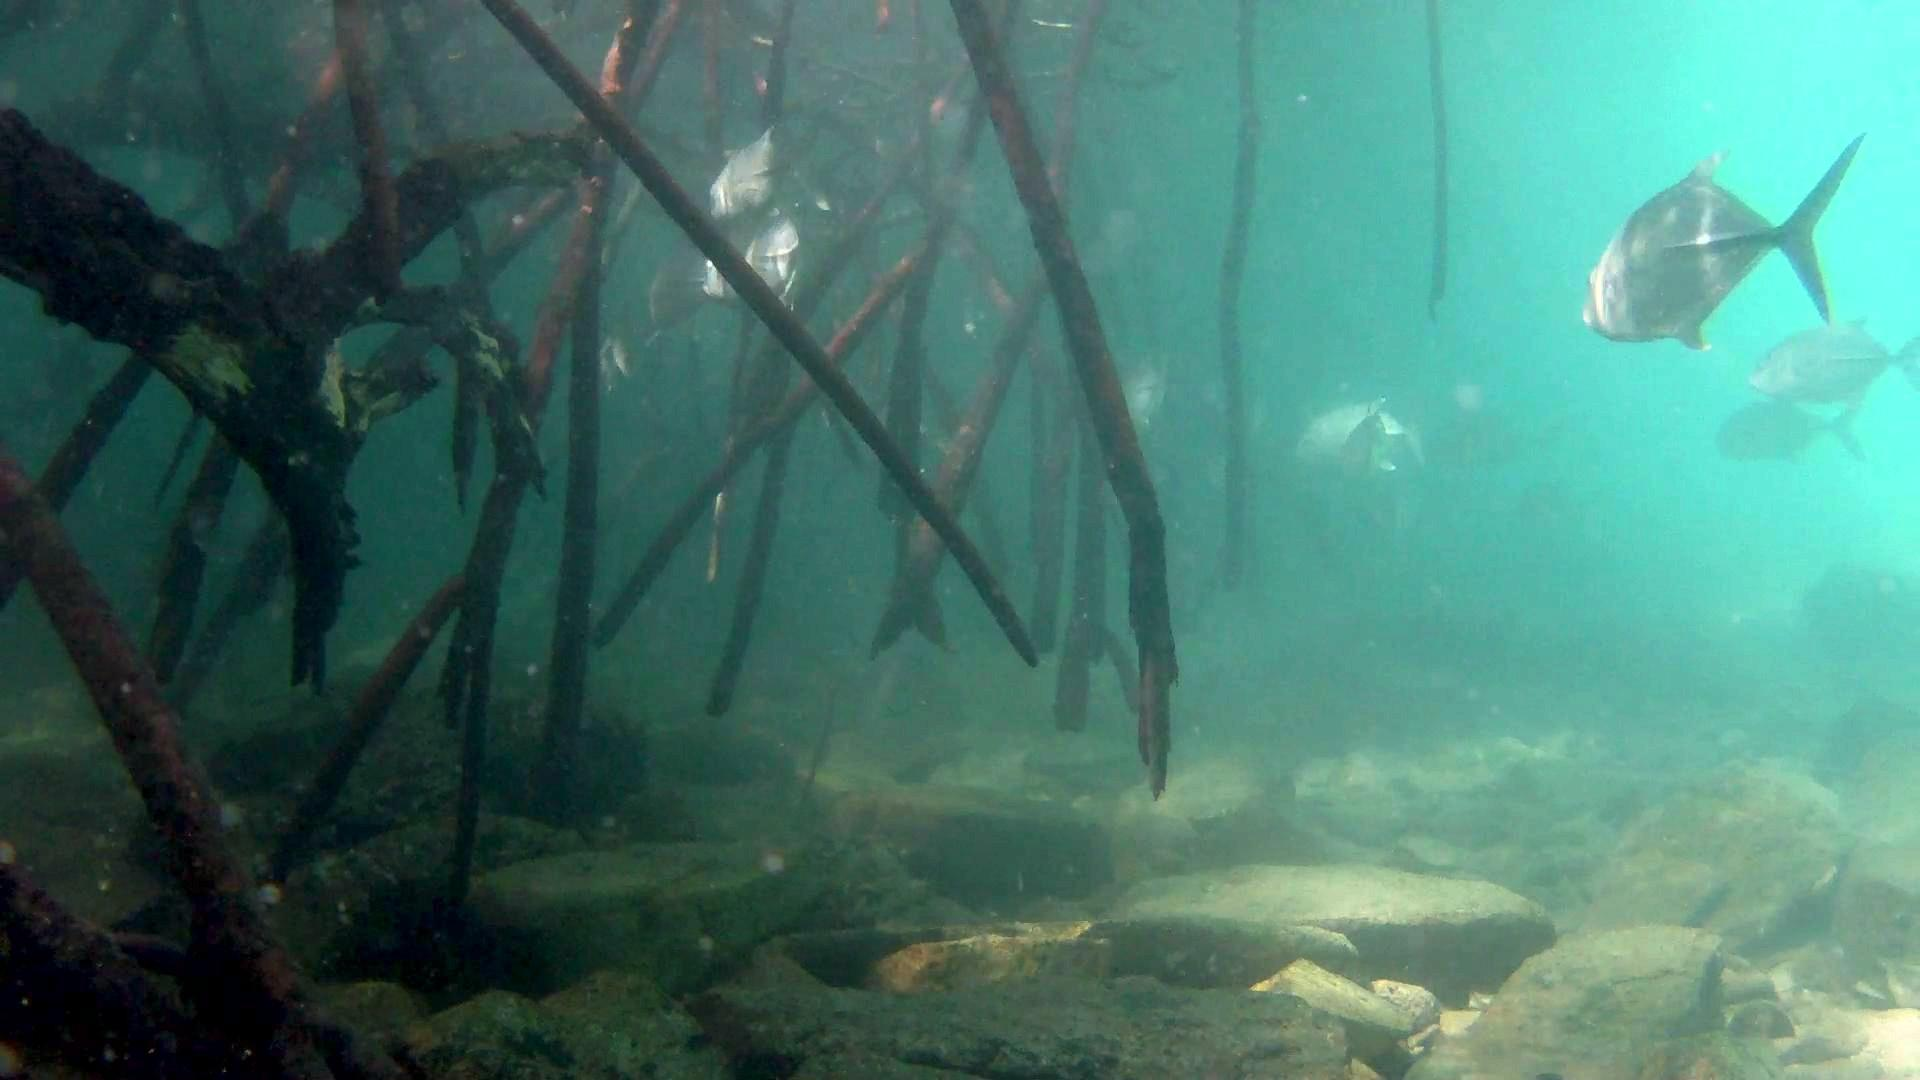caranx: (1576, 127, 1876, 357)
